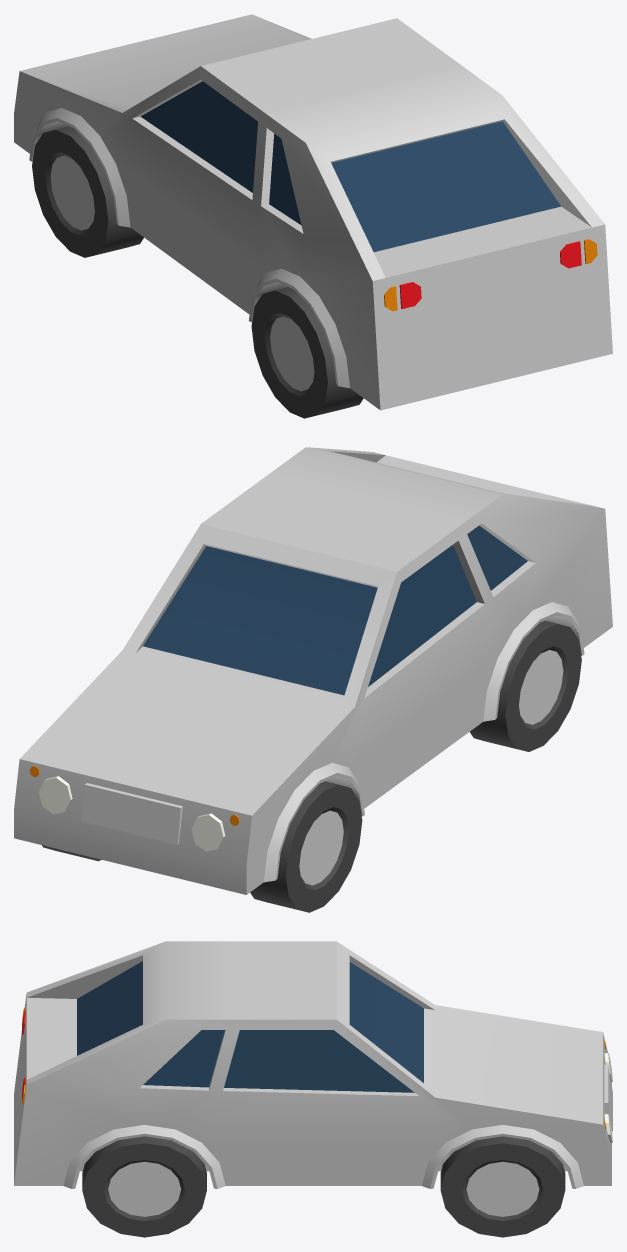
The model's file is simple_car.glb.
3 views of the same model, one above another, from view 1: azimuth 30°, elevation 25°; view 2: azimuth 150°, elevation 25°; view 3: azimuth 270°, elevation 25° (orthographic). The views are drawn at different scales.
Parts seen in each view (by area): view 1: Simple Car; view 2: Simple Car; view 3: Simple Car.
Part boxes in pixels (left/top/right/bottom): Simple Car: left=14, top=14, right=612, bottom=418; Simple Car: left=14, top=447, right=612, bottom=912; Simple Car: left=14, top=941, right=612, bottom=1237.
Size of the model in its own units: 1.47 by 1.4 by 3.68.
